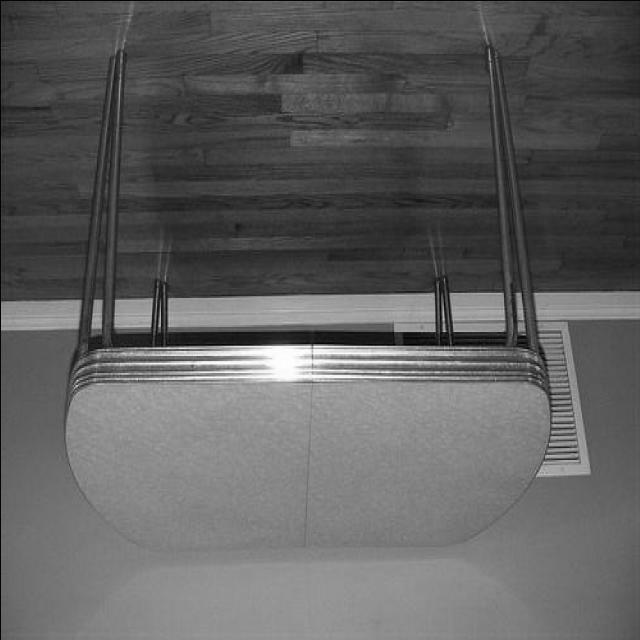table: (58, 48, 551, 552)
